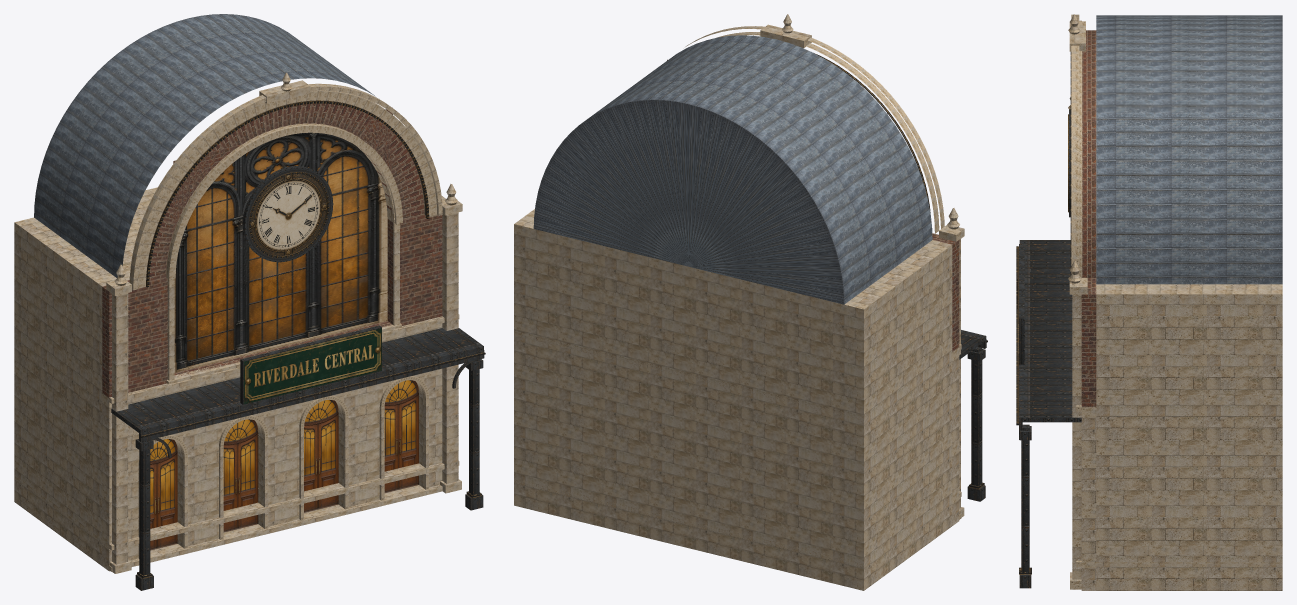
Rendered from central_hall.glb.
The picture shows the model from 3 angles, left to right: view 1: azimuth 30°, elevation 25°; view 2: azimuth 150°, elevation 25°; view 3: azimuth 270°, elevation 25°; orthographic projection. The views are drawn at different scales.
Parts seen in each view (by area): view 1: central_hall; view 2: central_hall; view 3: central_hall.
Boxes of the visible parts, <box> form: central_hall: <box>14,14,485,590</box>; central_hall: <box>514,14,987,590</box>; central_hall: <box>1016,14,1282,590</box>.
Size of the model in its own units: 16 by 20.18 by 10.
Materials: 9 (9 with a texture image).
